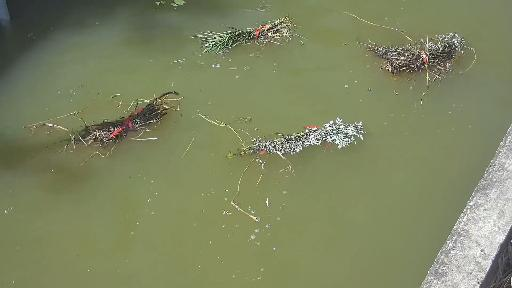leaf: (143, 0, 186, 7)
twig: (332, 4, 492, 89), (38, 79, 206, 157), (207, 117, 386, 176), (191, 15, 335, 70)
